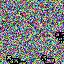sheep: (41, 54, 56, 64)
